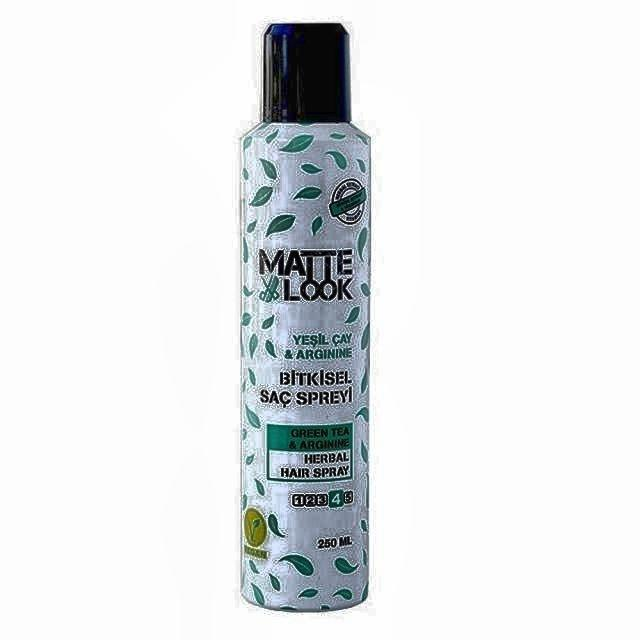metal: (236, 23, 374, 617)
